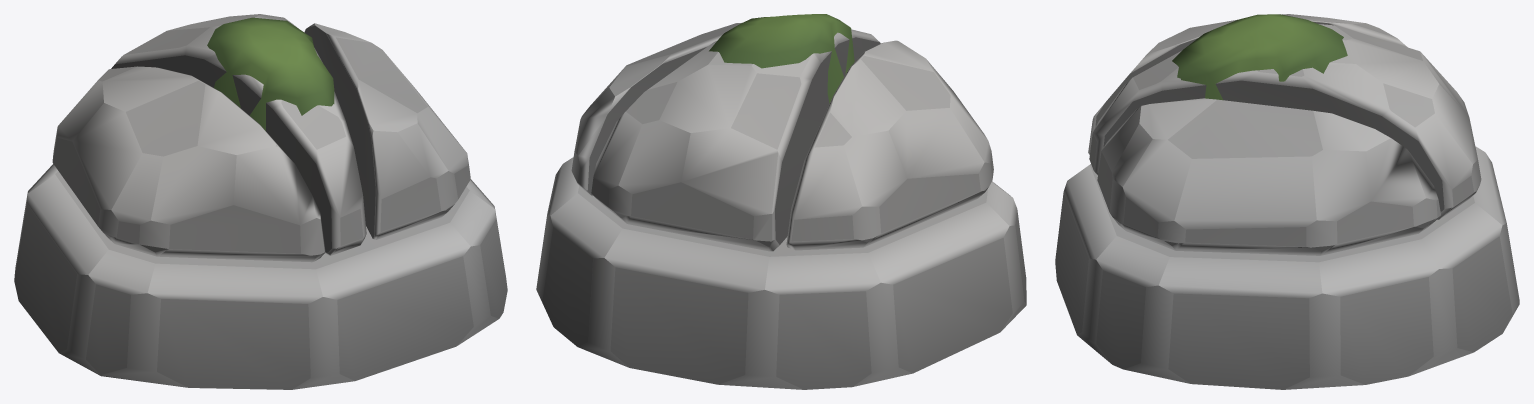
File: ground_tor_b.glb
3 renders of one model, left to right at view 1: azimuth 30°, elevation 25°; view 2: azimuth 150°, elevation 25°; view 3: azimuth 270°, elevation 25°, orthographic.
Parts seen in each view (by area): view 1: ground_tor_b_LOD0; view 2: ground_tor_b_LOD0; view 3: ground_tor_b_LOD0.
Part boxes in pixels (bbox=[...]): ground_tor_b_LOD0: bbox=[14, 14, 507, 389]; ground_tor_b_LOD0: bbox=[536, 14, 1026, 389]; ground_tor_b_LOD0: bbox=[1055, 14, 1519, 389].
Size of what is drawn, in the model's own units: 0.9558 by 0.5772 by 0.914.
